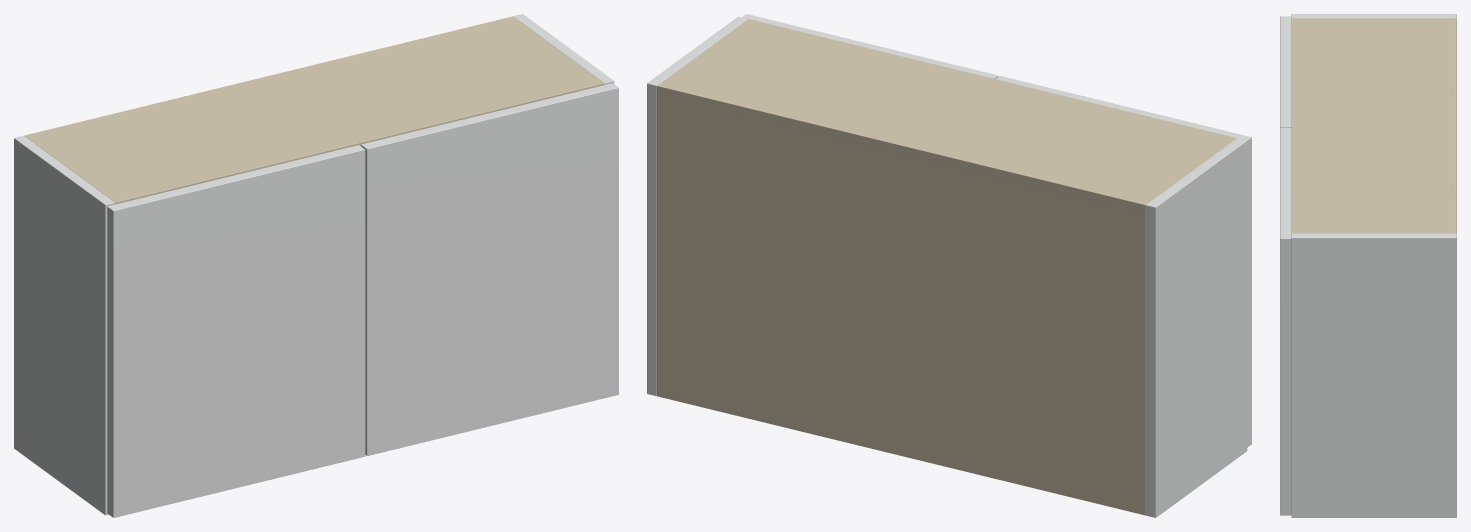
File: oppein-ply-pgw-w3621.glb
3 renders of one model, left to right at view 1: azimuth 30°, elevation 25°; view 2: azimuth 150°, elevation 25°; view 3: azimuth 270°, elevation 25°, orthographic. The views are drawn at different scales.
Parts seen in each view (by area): view 1: Door, Door.001, Cabinet top, Cabinet side, Cabinet back, Cabinet side.001; view 2: Cabinet back, Cabinet top, Cabinet side, Cabinet side.001, Door, Cabinet bottom, Door.001; view 3: Cabinet side.001, Cabinet top, Door.001, Cabinet back, Door, Cabinet side.
Boxes of the visible parts, x1,y1,x2,y2 form: Door: (107, 145, 365, 517); Door.001: (361, 83, 618, 455); Cabinet top: (24, 17, 604, 204); Cabinet side: (14, 135, 115, 515); Cabinet back: (24, 16, 515, 137); Cabinet side.001: (513, 14, 614, 84); Cabinet back: (657, 83, 1148, 515); Cabinet top: (657, 19, 1236, 214); Cabinet side: (1146, 138, 1247, 517); Cabinet side.001: (647, 16, 747, 396); Door: (996, 76, 1251, 447); Cabinet bottom: (657, 386, 1145, 513); Door.001: (742, 14, 998, 78); Cabinet side.001: (1291, 233, 1456, 517); Cabinet top: (1291, 18, 1456, 233); Door.001: (1280, 128, 1291, 515); Cabinet back: (1450, 18, 1456, 233); Door: (1280, 16, 1291, 127); Cabinet side: (1291, 14, 1456, 18).
Size of the model in its own units: 0.9144 by 0.5334 by 0.3048.
